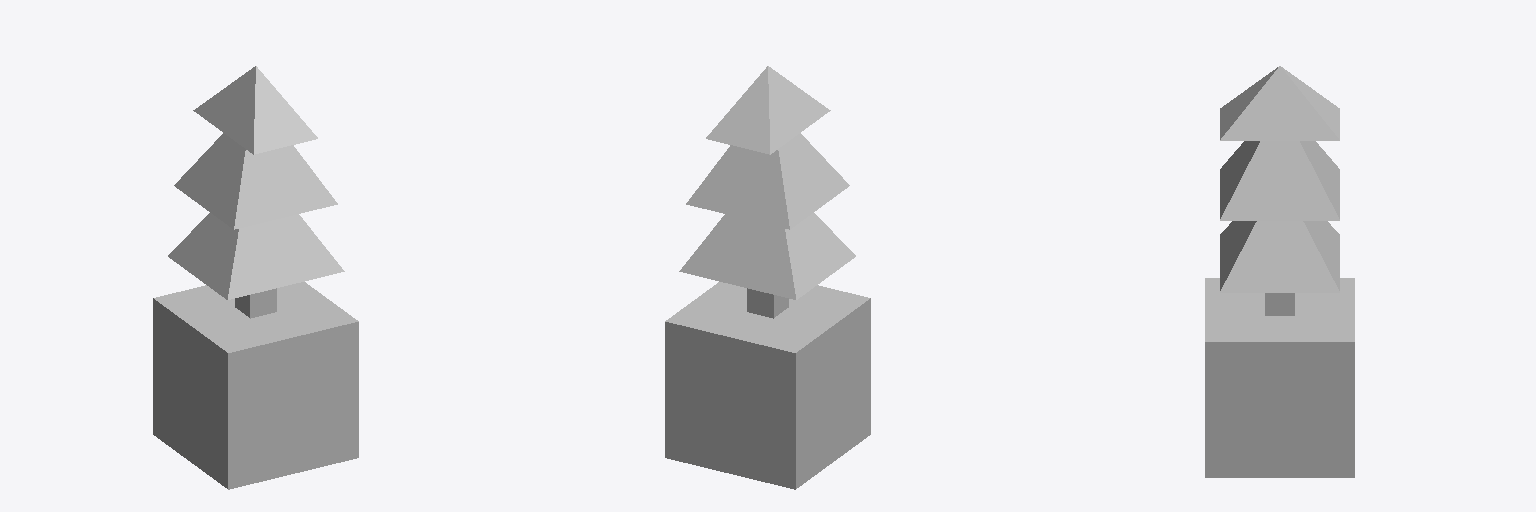
Rendered from deneme.obj.
3 renders of one model, left to right at view 1: azimuth 30°, elevation 25°; view 2: azimuth 150°, elevation 25°; view 3: azimuth 270°, elevation 25°, orthographic.
Parts seen in each view (by area): view 1: mmGroup0; view 2: mmGroup0; view 3: mmGroup0.
Boxes of the visible parts, box(x1,y1,x2,y2) form: mmGroup0: box(153, 66, 358, 489); mmGroup0: box(665, 66, 870, 489); mmGroup0: box(1205, 66, 1354, 477).
Bounding box in the file's own units: 10 × 27.89 × 10.